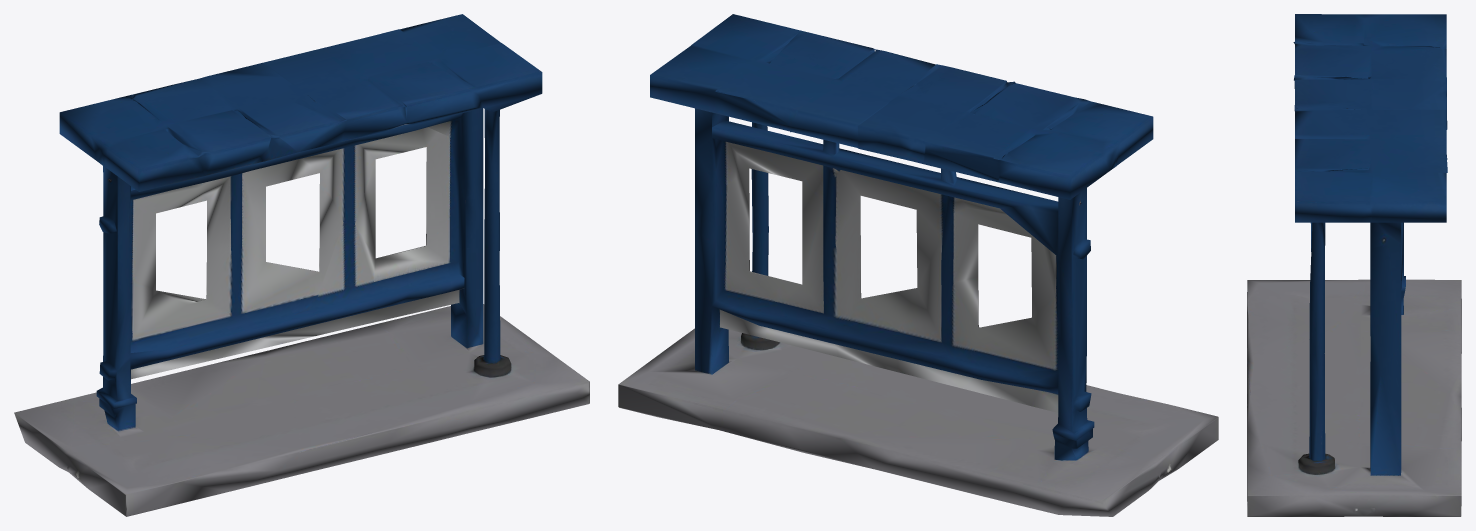
Rendered from bus stop shelter 3d model.glb.
3 views of the same model, side by side, from view 1: azimuth 30°, elevation 25°; view 2: azimuth 150°, elevation 25°; view 3: azimuth 270°, elevation 25° (orthographic). The views are drawn at different scales.
Visible parts, largest first — view 1: tripo_node_c23f7e56-7dbd-4efc-8246-4a339a0c06c9; view 2: tripo_node_c23f7e56-7dbd-4efc-8246-4a339a0c06c9; view 3: tripo_node_c23f7e56-7dbd-4efc-8246-4a339a0c06c9.
Boxes of the visible parts, x1,y1,x2,y2 form: tripo_node_c23f7e56-7dbd-4efc-8246-4a339a0c06c9: (14,14,589,516); tripo_node_c23f7e56-7dbd-4efc-8246-4a339a0c06c9: (618,14,1218,516); tripo_node_c23f7e56-7dbd-4efc-8246-4a339a0c06c9: (1247,14,1461,516).
Bounding box in the file's own units: 0.9828 × 0.6455 × 0.4112.
1 material, 1 textured.
